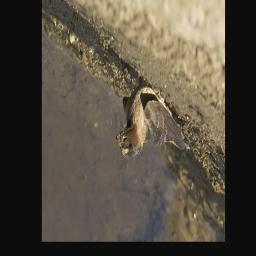Swallow: (117, 81, 187, 160)
